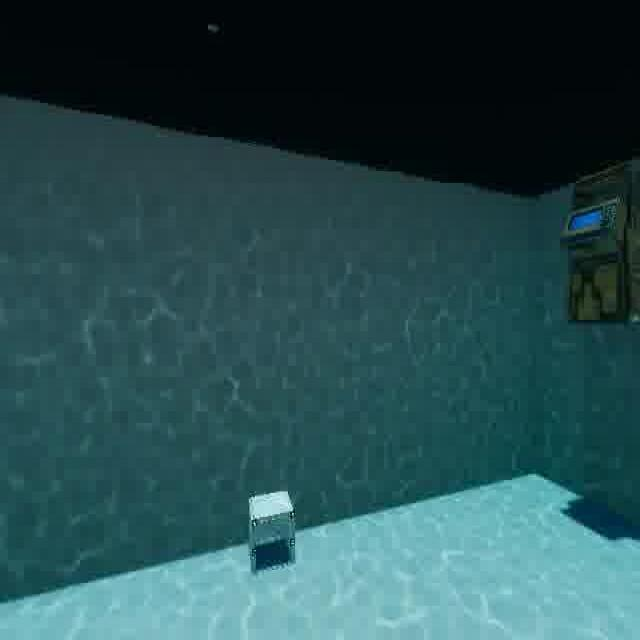Control Panel: (564, 153, 640, 339)
Docking Station: (246, 483, 302, 580)
